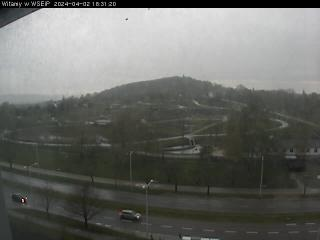car: (118, 209, 142, 221), (10, 192, 28, 203)
